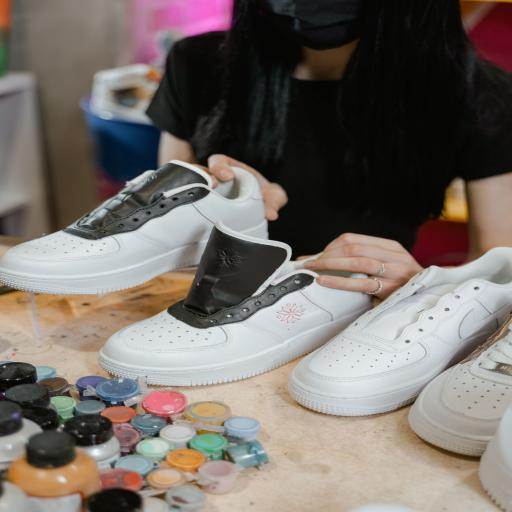shoe: (99, 222, 371, 385), (289, 248, 511, 415), (0, 161, 267, 294), (393, 322, 512, 457), (475, 394, 512, 510)
